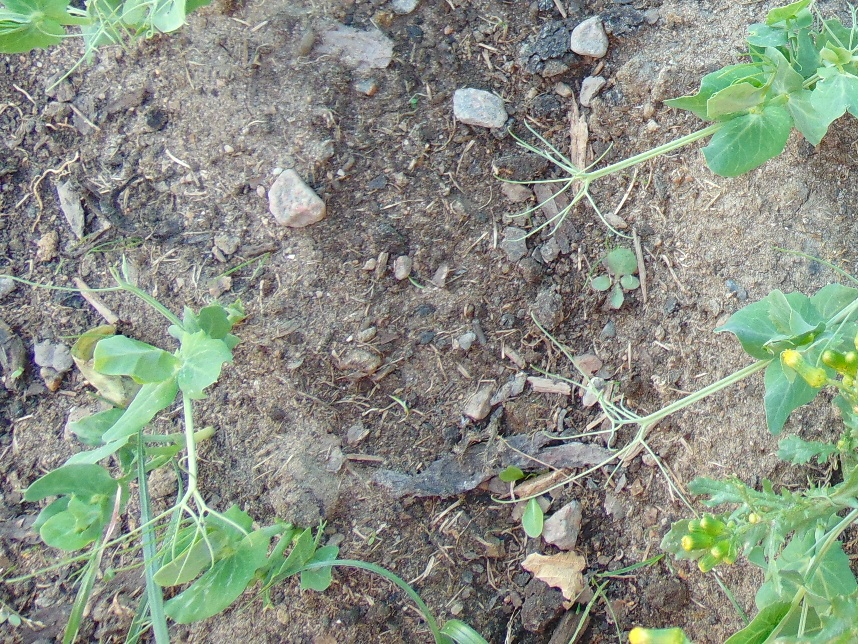crop: (29, 263, 250, 555), (584, 281, 858, 453), (63, 460, 337, 632), (522, 78, 718, 266), (662, 1, 858, 188), (724, 500, 858, 644)
weed: (650, 437, 858, 570), (782, 325, 858, 455), (585, 248, 647, 309), (494, 461, 542, 539), (409, 590, 470, 644)
